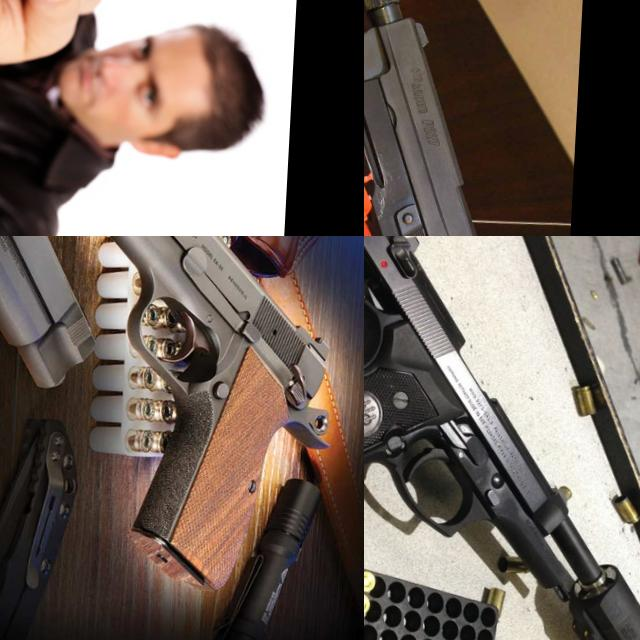handgun: (0, 236, 355, 602), (364, 236, 640, 619), (364, 0, 571, 236), (1, 0, 202, 118)
